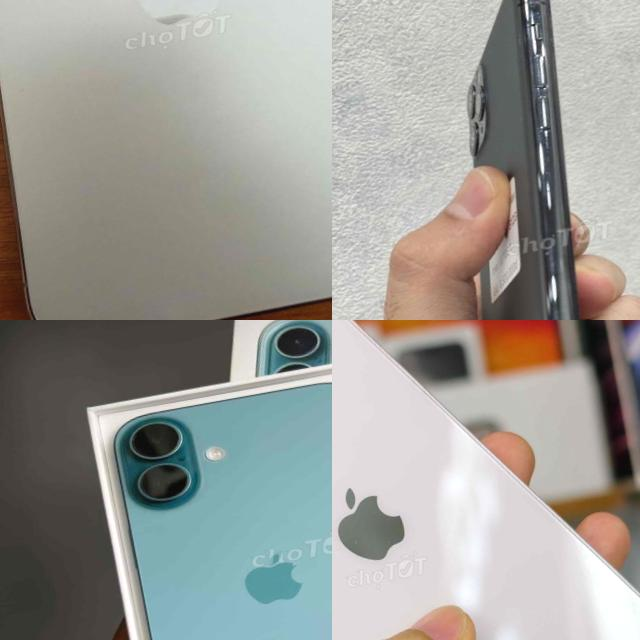gen_11: (395, 0, 640, 320)
gen_12_13: (0, 0, 332, 320), (332, 320, 640, 640)
gen_16: (91, 360, 332, 640)
